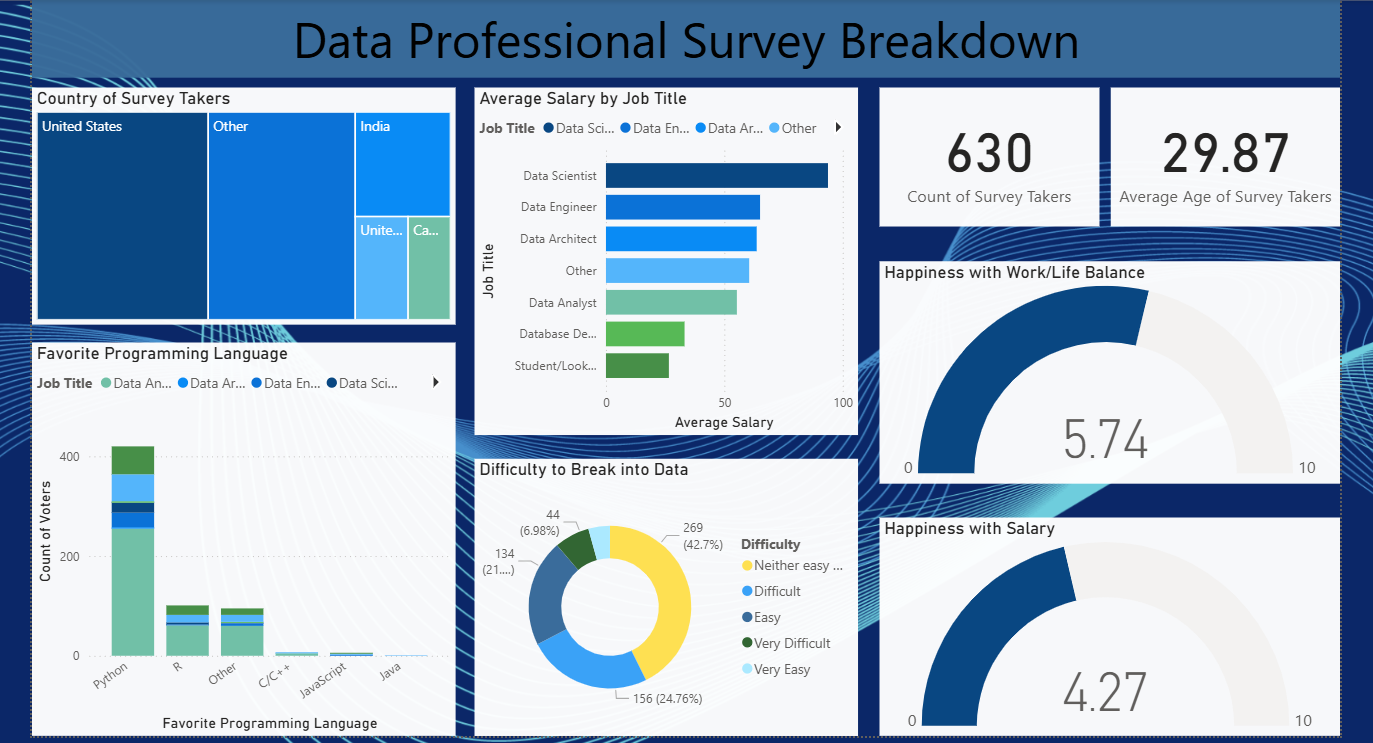

Layout of this report page (visuals, bound fields, positions):
{"tool":"powerbi","page":{"name":"Page 1","canvas":[1280,720],"ordinal":0},"visuals":[{"type":"textbox","box":[0,0,1280.3,75.8],"z":0},{"type":"card","fields":{"Values":["Count(Data Professional Survey (2).Unique ID)"]},"box":[829.1,85.6,215.2,135.7],"z":1000},{"type":"card","fields":{"Values":["Avg(Data Professional Survey (2).Q10 - Current Age)"]},"box":[1055.3,85.6,225,135.7],"z":2000},{"type":"barChart","title":"Average Salary by Job Title","fields":{"Category":["Data Professional Survey (2).Q1 - Which Title Best Fits your Current Role?.1"],"Y":["Avg(Data Professional Survey (2).Average Salary)"],"Series":["Data Professional Survey (2).Q1 - Which Title Best Fits your Current Role?.1"]},"box":[432.9,85.6,375.4,339.9],"z":3000},{"type":"columnChart","title":"Favorite Programming Language","fields":{"Category":["Data Professional Survey (2).Q5 - Favorite Programming Language.1"],"Y":["CountNonNull(Data Professional Survey (2).Unique ID)"],"Series":["Data Professional Survey (2).Q1 - Which Title Best Fits your Current Role?.1"]},"box":[0,335.1,414.5,385.2],"z":4000},{"type":"treemap","title":"Country of Survey Takers","fields":{"Group":["Data Professional Survey (2).Q11 - Which Country do you live in?.1"],"Values":["CountNonNull(Data Professional Survey (2).Q11 - Which Country do you live in?.1)"]},"box":[0,85.6,414.5,232.3],"z":5000},{"type":"gauge","title":"Happiness with Work/Life Balance","fields":{"Y":["Avg(Data Professional Survey (2).Q6 - How Happy are you in your Current Position with the following? (Work/Life Balance)"],"MinValue":["Min(Data Professional Survey (2).Q6 - How Happy are you in your Current Position with the following? (Work/Life Balance)"],"MaxValue":["Max(Data Professional Survey (2).Q6 - How Happy are you in your Current Position with the following? (Work/Life Balance)"]},"box":[829.1,255.6,451.2,217.7],"z":6000},{"type":"gauge","title":"Happiness with Salary","fields":{"Y":["Avg(Data Professional Survey (2).Q6 - How Happy are you in your Current Position with the following? (Salary))"],"MinValue":["Min(Data Professional Survey (2).Q6 - How Happy are you in your Current Position with the following? (Salary))"],"MaxValue":["Max(Data Professional Survey (2).Q6 - How Happy are you in your Current Position with the following? (Salary))"]},"box":[829.1,506.3,451.2,214],"z":7000},{"type":"donutChart","title":"Difficulty to Break into Data","fields":{"Category":["Data Professional Survey (2).Q7 - How difficult was it for you to break into Data?"],"Y":["CountNonNull(Data Professional Survey (2).Q7 - How difficult was it for you to break into Data?)"]},"box":[432.9,448.8,375.4,271.5],"z":8000}]}

Visuals, with their boxes in screenshot pixels (x1, y1, x2, y2):
textbox: Rect(29, 0, 1333, 77)
card - Count(Data Professional Survey (2).Unique ID): Rect(873, 87, 1092, 225)
card - Avg(Data Professional Survey (2).Q10 - Current Age): Rect(1104, 87, 1333, 225)
"Average Salary by Job Title" barChart: Rect(470, 87, 852, 433)
"Favorite Programming Language" columnChart: Rect(29, 341, 451, 734)
"Country of Survey Takers" treemap: Rect(29, 87, 451, 324)
"Happiness with Work/Life Balance" gauge: Rect(873, 260, 1333, 482)
"Happiness with Salary" gauge: Rect(873, 516, 1333, 734)
"Difficulty to Break into Data" donutChart: Rect(470, 457, 852, 734)
